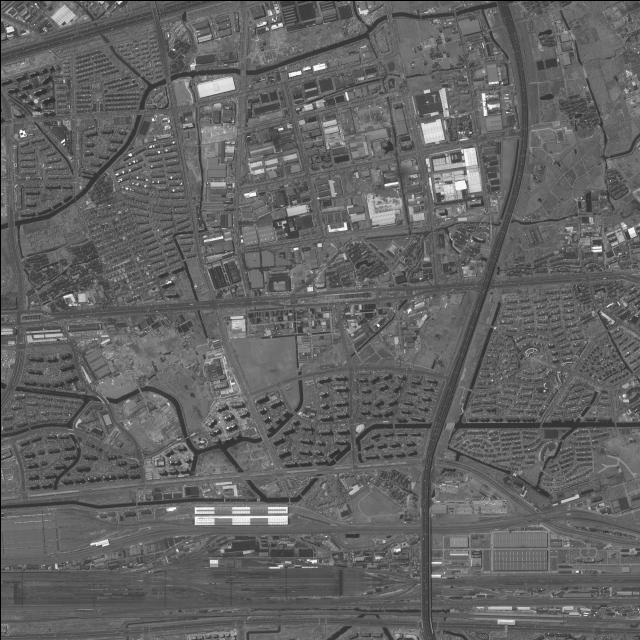storage-tank: (621, 393, 626, 397)
